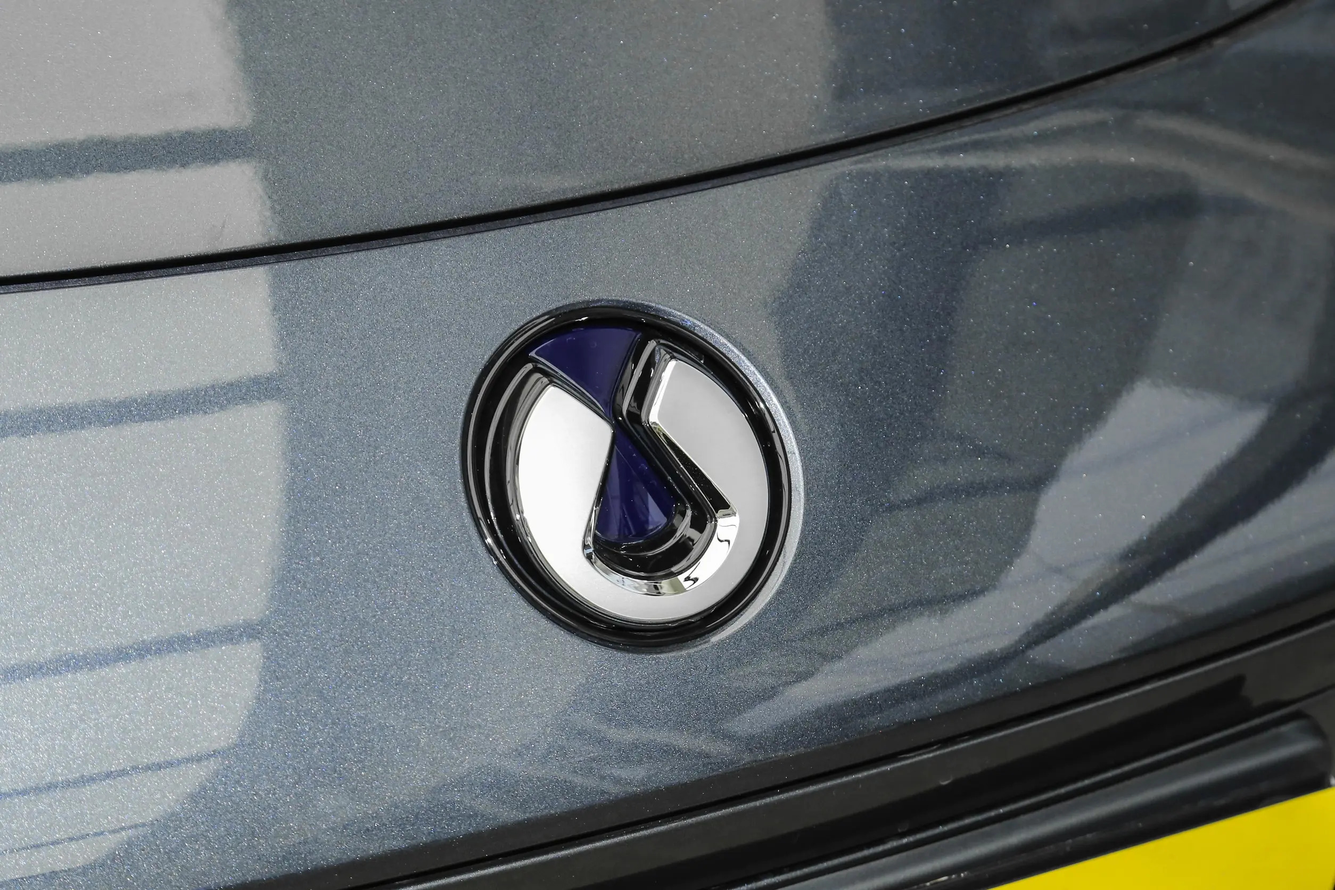DENZA: (519, 362, 767, 620)
